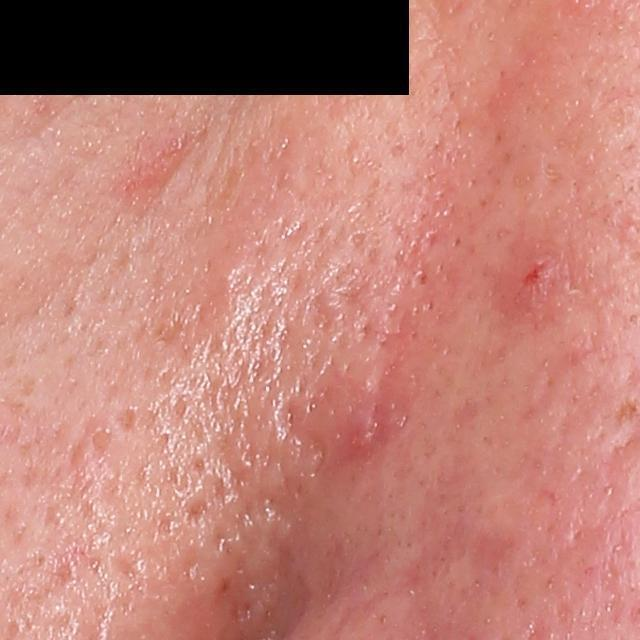papule: (493, 244, 572, 321), (343, 405, 385, 460)
